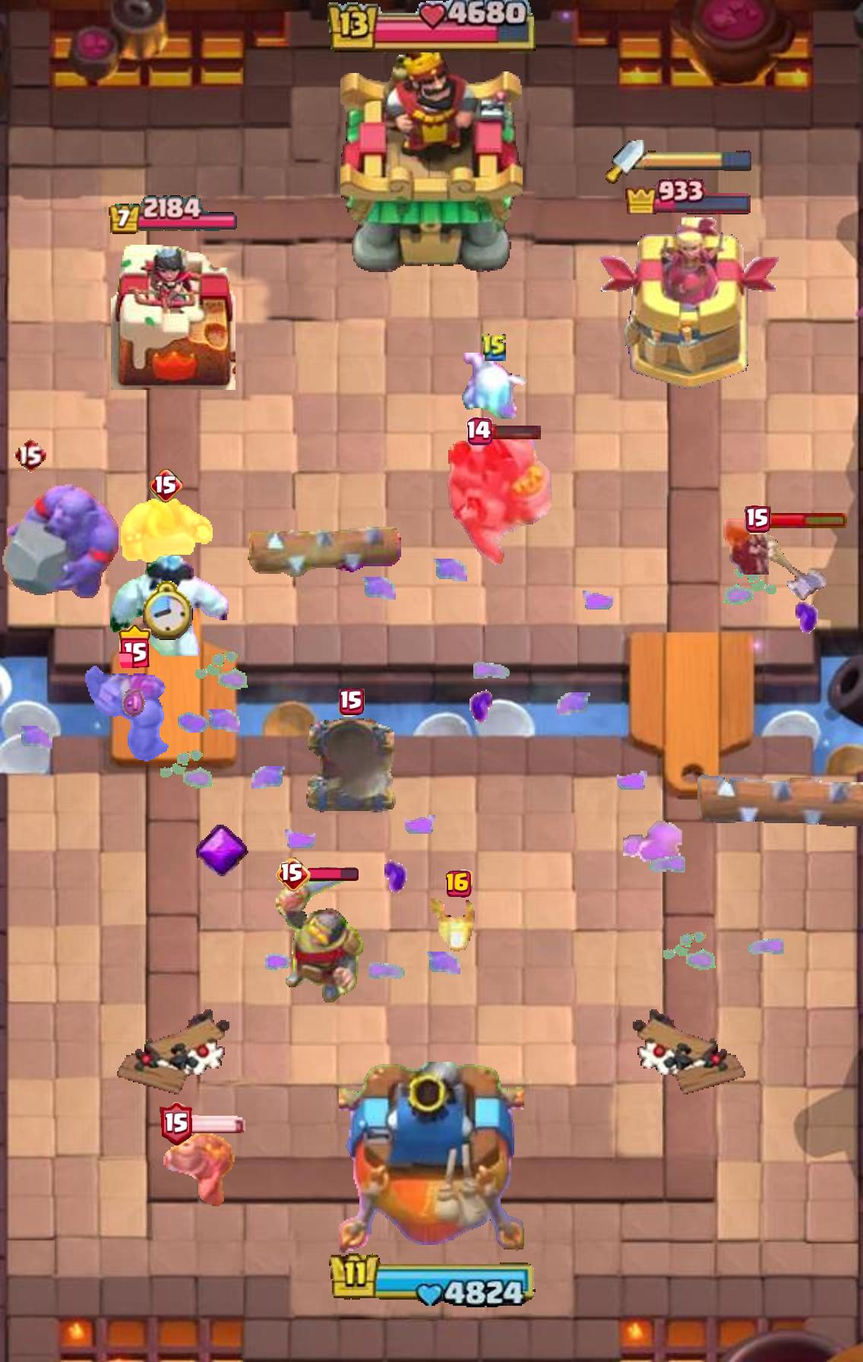bar: (767, 511, 848, 529), (188, 1115, 246, 1133), (488, 423, 542, 440), (307, 867, 359, 881)
bar-level: (119, 624, 152, 668), (160, 1102, 193, 1146), (276, 857, 311, 892), (13, 436, 46, 473), (149, 469, 183, 504), (745, 505, 771, 534), (338, 688, 364, 717), (466, 418, 492, 446), (446, 869, 472, 897)
